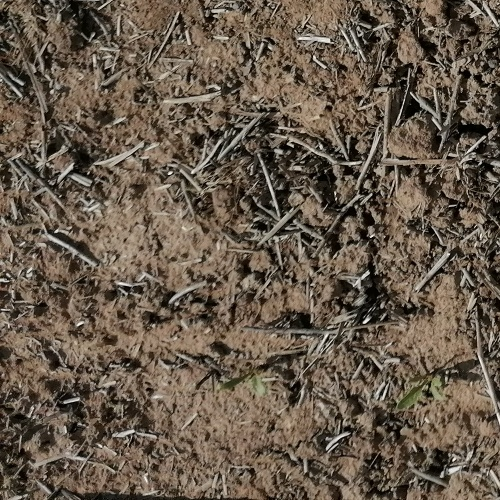beet: (214, 360, 282, 395), (396, 369, 448, 409)
